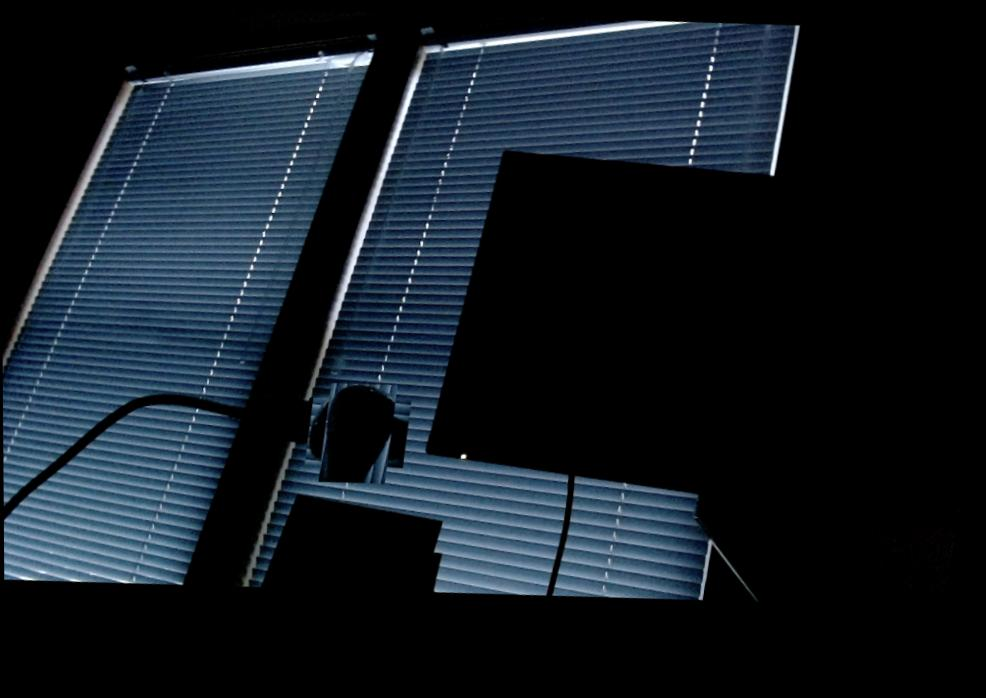Fan: (309, 390, 404, 493)
